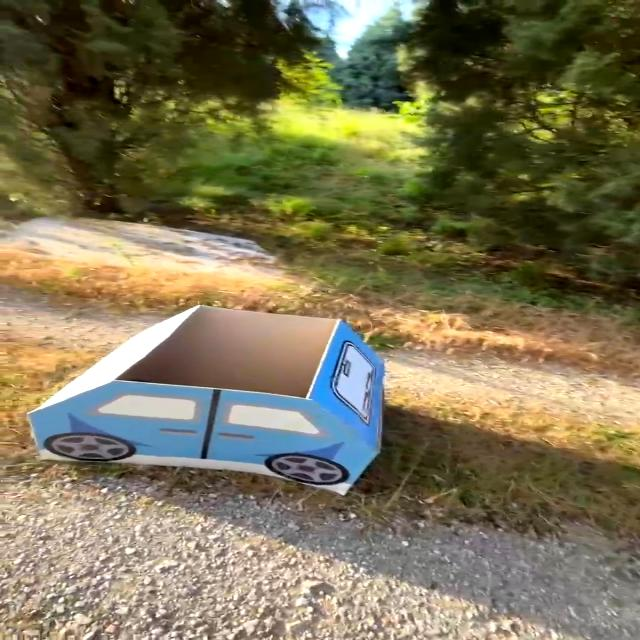blue_car: (7, 286, 437, 511)
